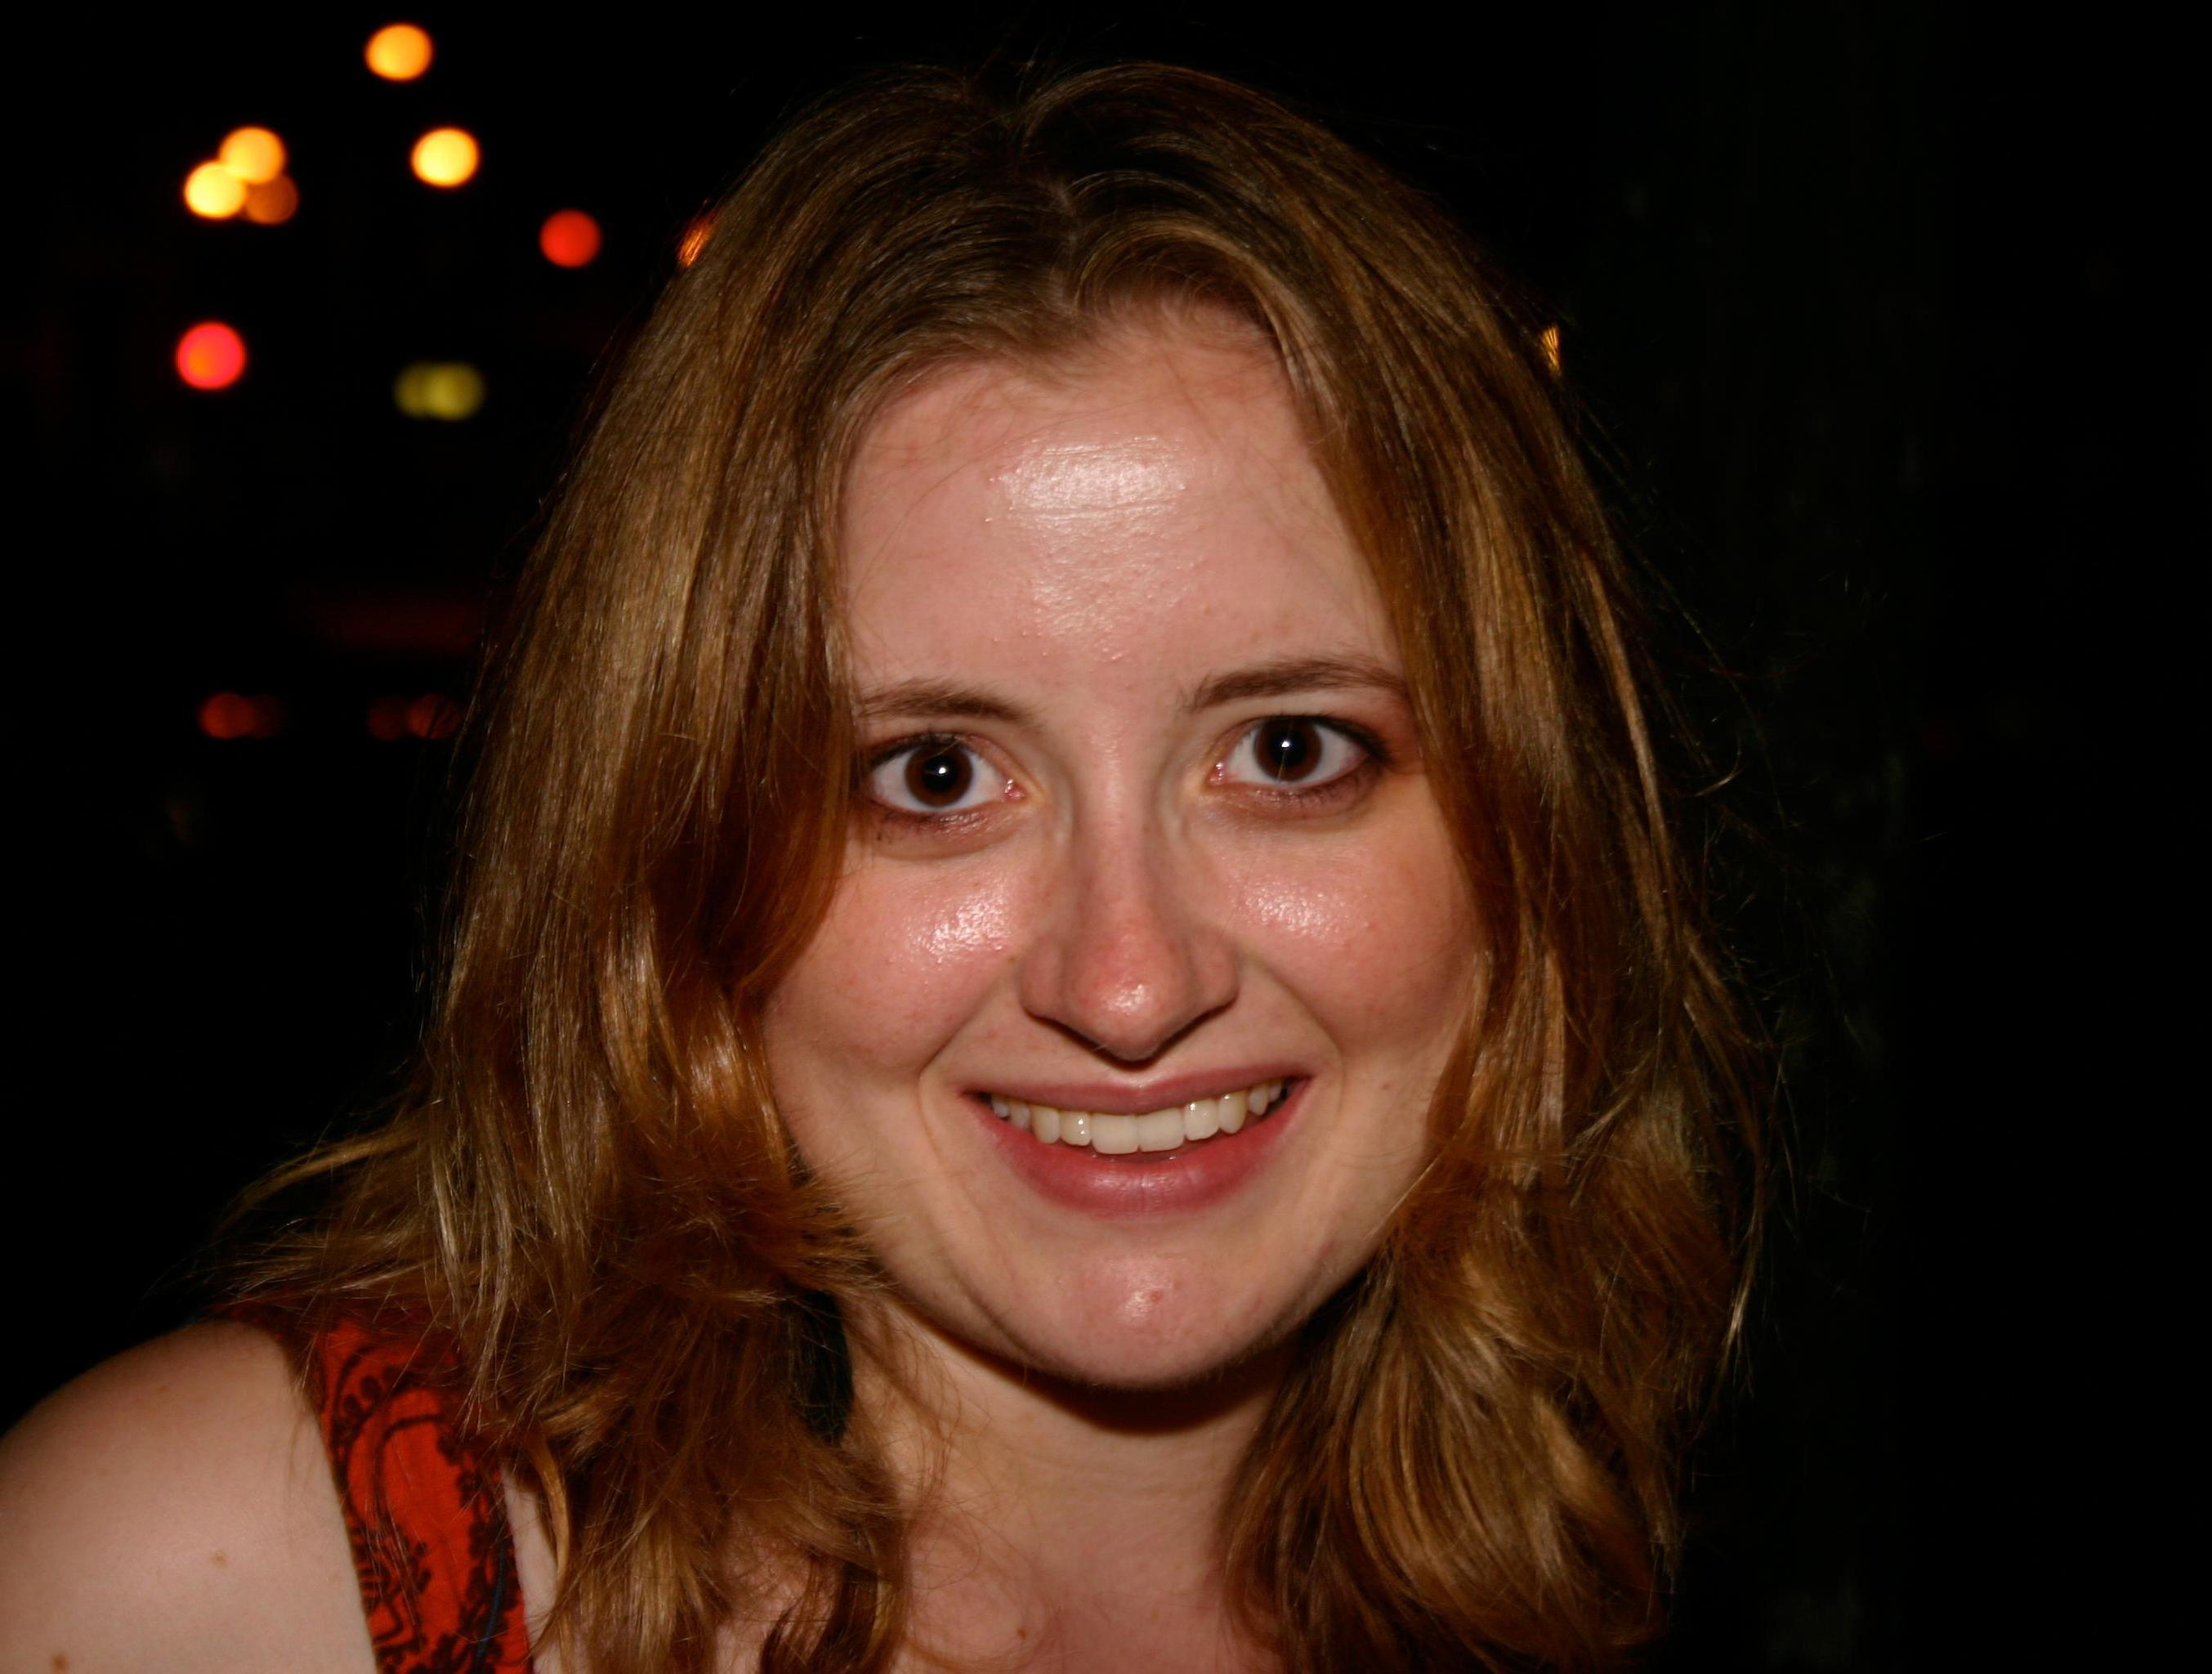Eyebags: (1190, 758, 1400, 858), (849, 812, 1034, 890)
